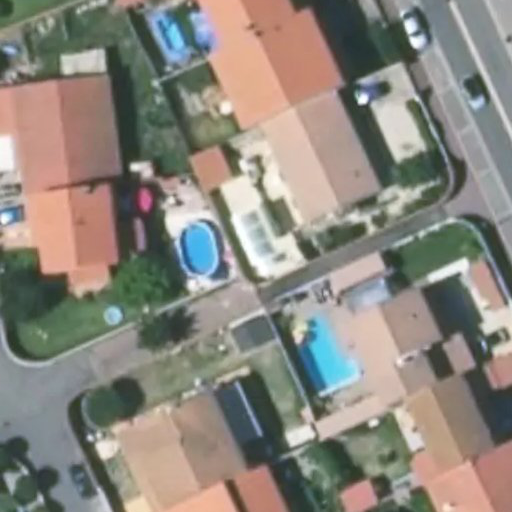pool: (226, 217, 282, 267)
